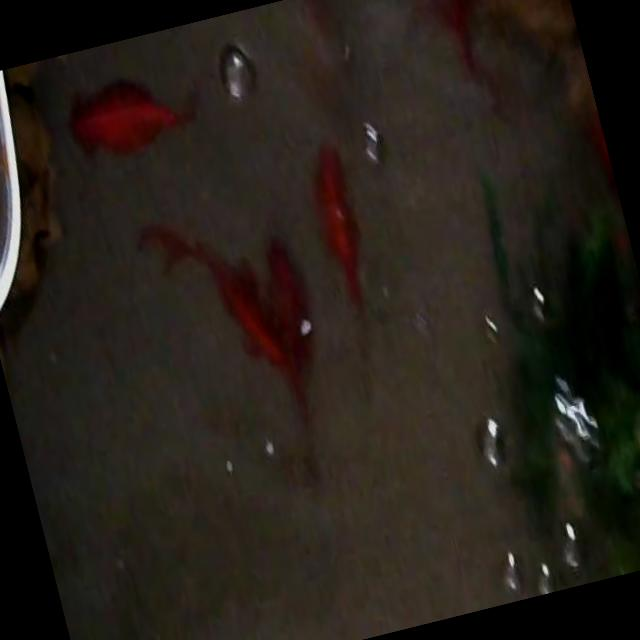fish: (140, 202, 287, 391), (246, 213, 361, 442), (301, 136, 407, 349), (58, 60, 208, 168), (412, 0, 505, 91)
